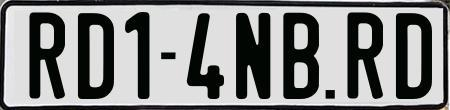1: (124, 10, 151, 102)
4: (187, 10, 225, 96)
B: (281, 12, 318, 102)
D: (393, 11, 435, 103), (75, 12, 114, 102)
N: (235, 10, 272, 99)
R: (345, 10, 385, 100), (29, 12, 68, 99)
